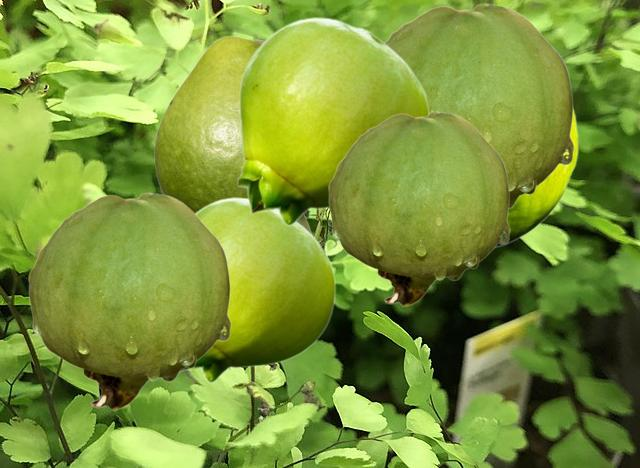guava: (28, 192, 230, 409), (236, 17, 429, 225), (385, 3, 573, 209), (328, 111, 509, 305), (154, 35, 312, 232), (180, 197, 335, 382), (496, 104, 577, 248)
